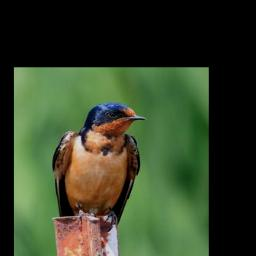Swallow: (51, 101, 146, 234)
